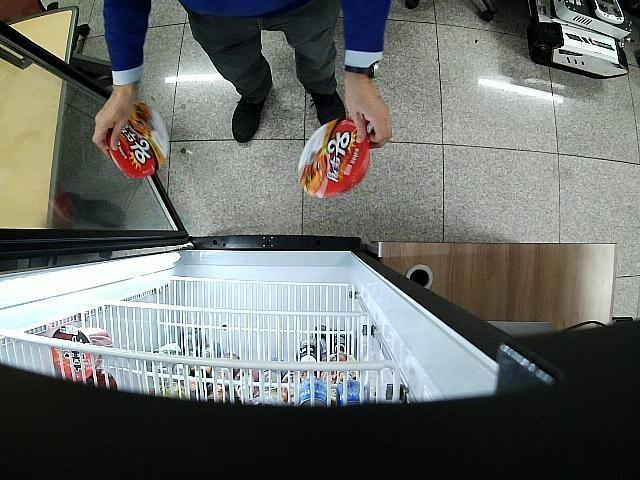10_wangTtukkeong: (298, 119, 370, 198), (107, 103, 169, 179)
